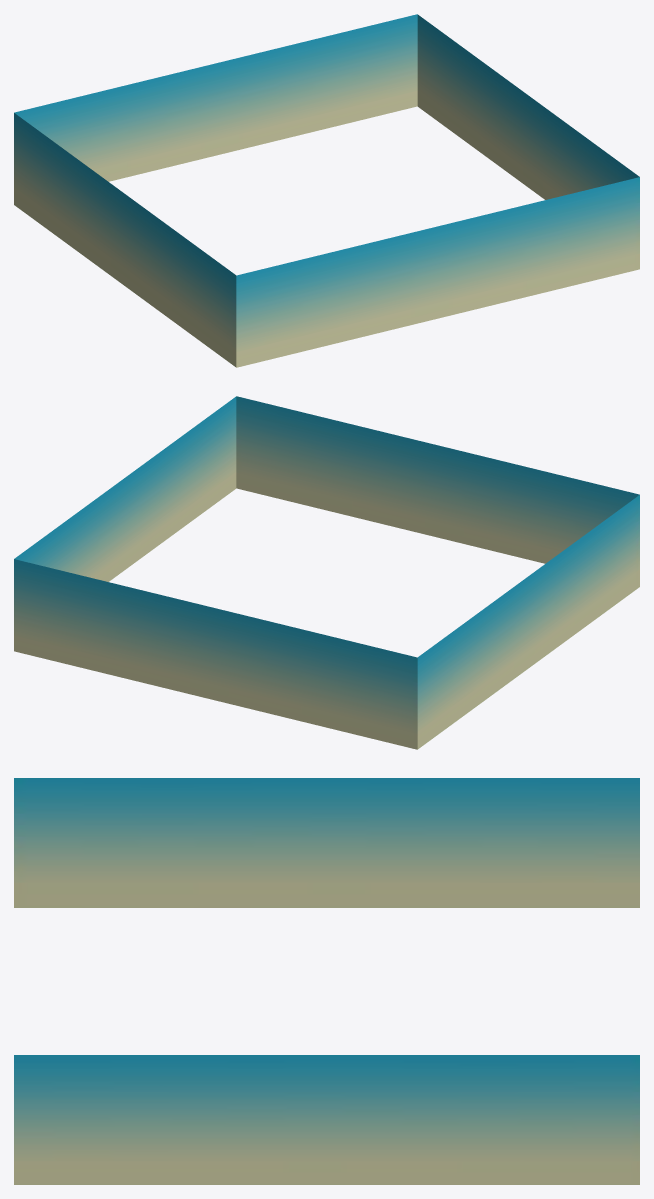
The model's file is tiangkong1.FBX.
3 views of the same model, one above another, from view 1: azimuth 30°, elevation 25°; view 2: azimuth 150°, elevation 25°; view 3: azimuth 270°, elevation 25° (orthographic). The views are drawn at different scales.
Visible parts, largest first — view 1: Object026; view 2: Object026; view 3: Object026.
Boxes of the visible parts, x1,y1,x2,y2 form: Object026: (14, 14, 639, 367); Object026: (14, 396, 639, 749); Object026: (14, 778, 639, 1184).
Size of the model in its own units: 3034 by 663 by 2897.
